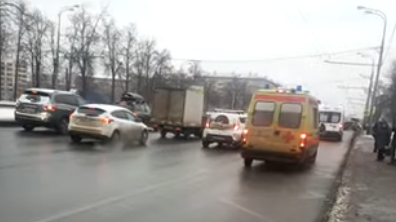intensive care unit: (242, 87, 321, 171)
non emergency car: (69, 102, 148, 149), (14, 89, 81, 134), (151, 85, 204, 140), (202, 109, 246, 149), (317, 104, 346, 140)
